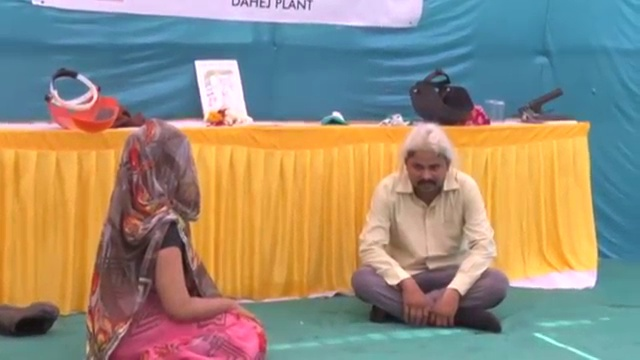helmet_off: (113, 118, 201, 222), (402, 125, 454, 196)
person: (82, 119, 267, 360), (353, 124, 510, 333)
